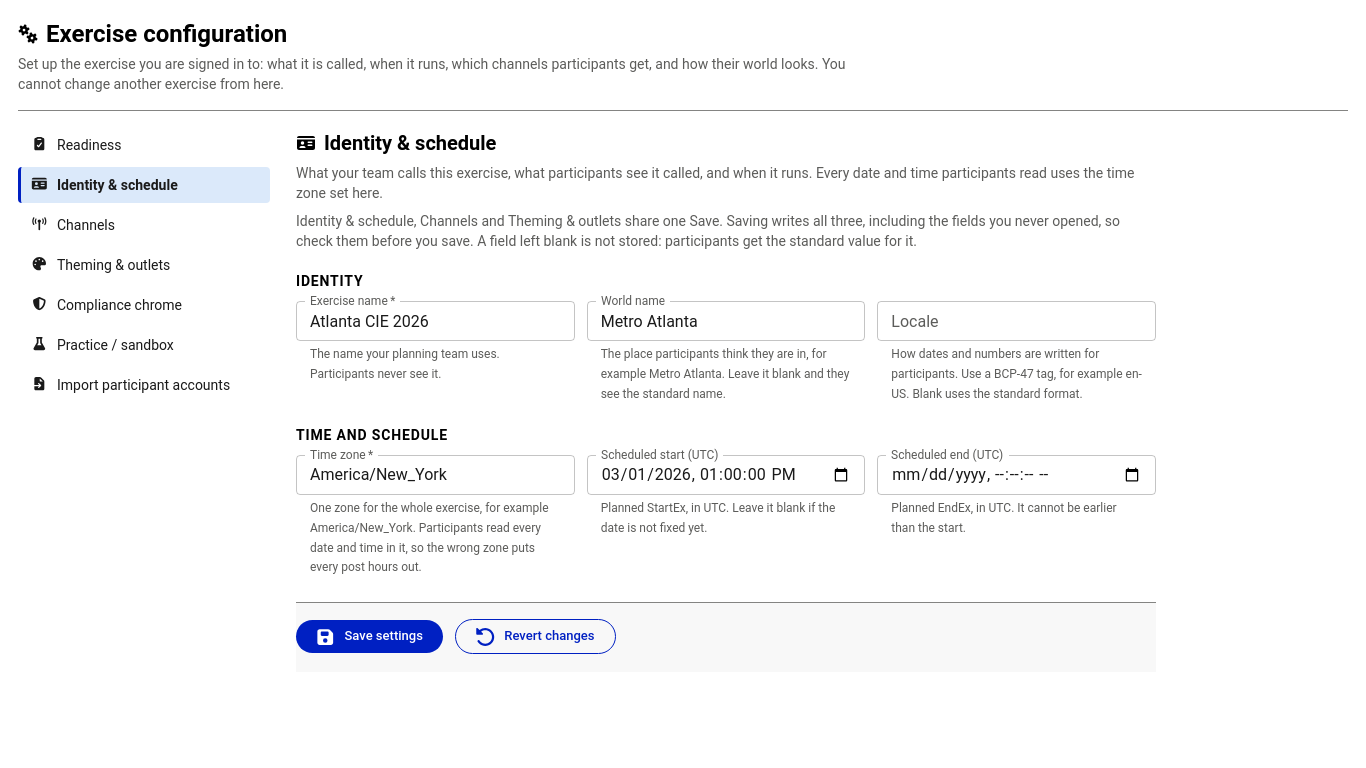
it: ExerciseSettingsPage — unsaved changes and off-screen validation › warns — icon and words — once the shared settings form is dirty
The image size is (1366, 768).
Expected: the form with test id "exercise-settings-form" is shown, [296,271,1156,672]
Type "!" into the field labelled "World name". click: (726, 321)
box: [587,301,865,341]
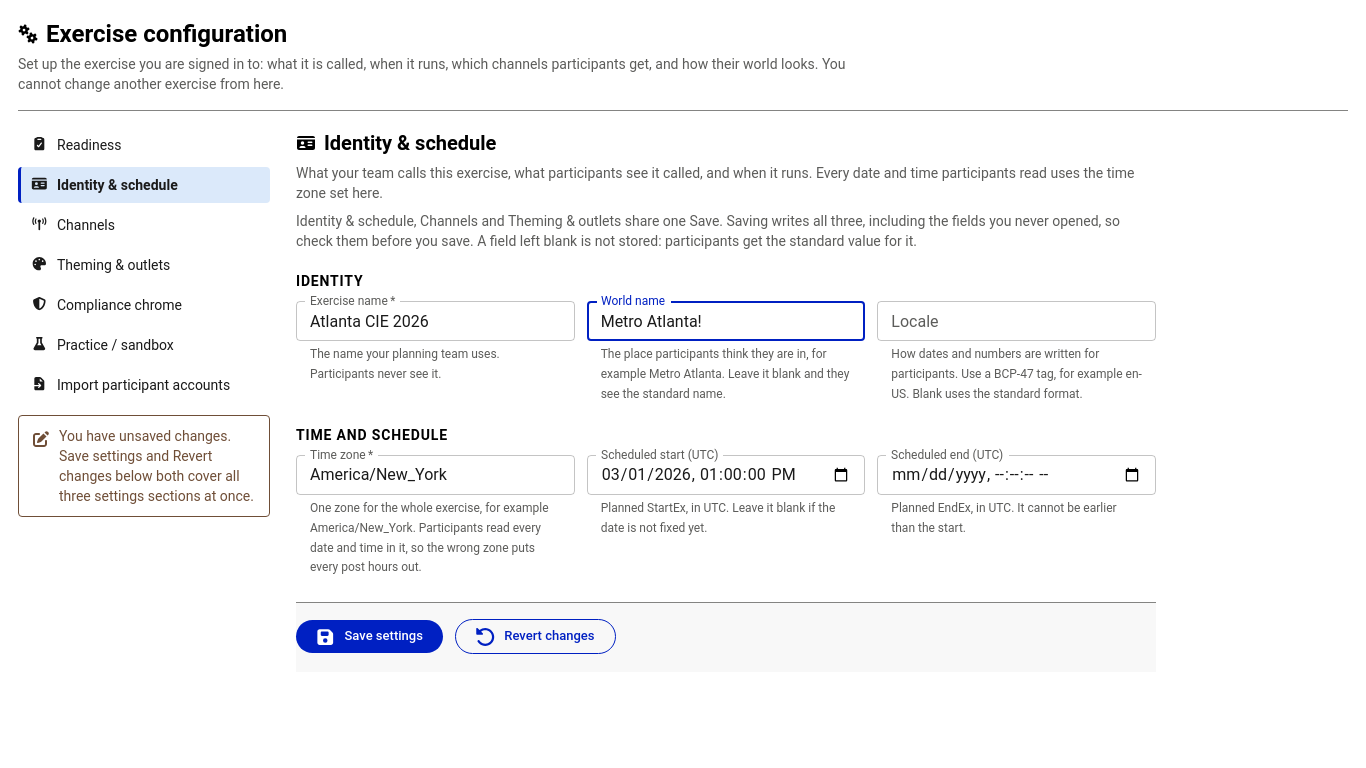
Expected: the message with test id "exercise-settings-unsaved-notice" shows "You have unsaved changes", [59,428,254,504]
